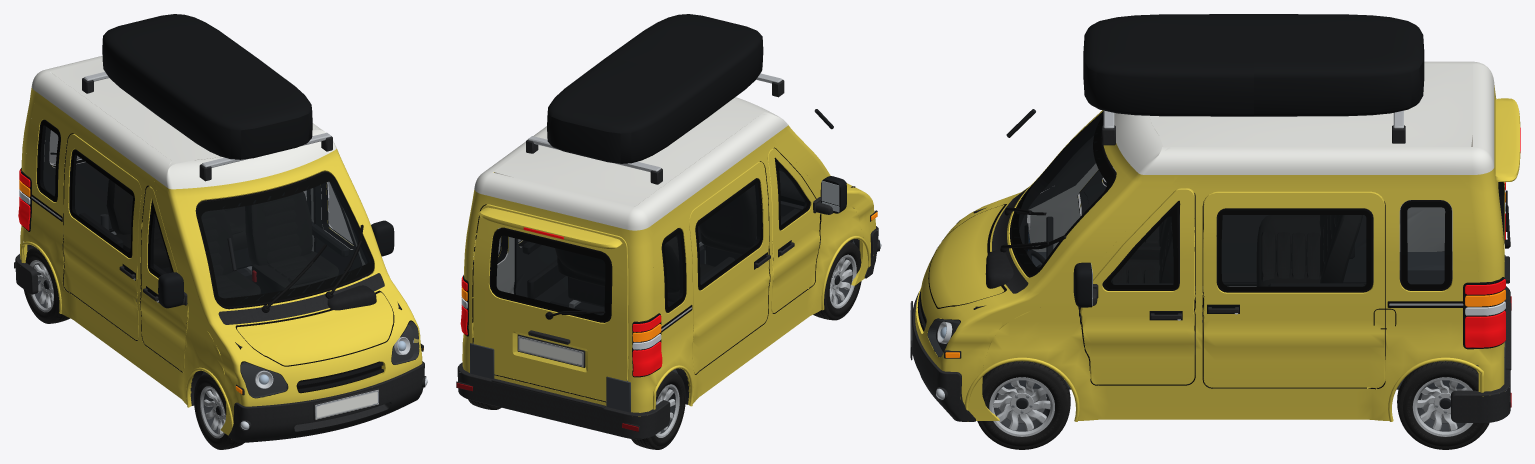
File: kei-wagon-with-roof-box.glb
The picture shows the model from 3 angles, left to right: view 1: azimuth 30°, elevation 25°; view 2: azimuth 150°, elevation 25°; view 3: azimuth 270°, elevation 25°; orthographic projection. The views are drawn at different scales.
Parts seen in each view (by area): view 1: Kei_Wagon_Roof_Box, Sliding_Door_R, Door_R, Door_L, Tailgate, Wheel_Front_R, Wheel_Rear_R; view 2: Kei_Wagon_Roof_Box, Tailgate, Sliding_Door_R, Door_R, Sliding_Door_L, Wheel_Front_R, Wheel_Rear_R; view 3: Kei_Wagon_Roof_Box, Sliding_Door_L, Door_L, Wheel_Front_L, Wheel_Rear_L, Sliding_Door_R, Tailgate, Door_R.
Part boxes in pixels (x1,y1,x2,y2): Kei_Wagon_Roof_Box: [14, 14, 427, 442]; Sliding_Door_R: [63, 134, 141, 339]; Door_R: [140, 186, 188, 371]; Door_L: [312, 174, 394, 286]; Tailgate: [43, 127, 112, 230]; Wheel_Front_R: [194, 373, 243, 449]; Wheel_Rear_R: [23, 247, 69, 323]; Kei_Wagon_Roof_Box: [456, 14, 881, 439]; Tailgate: [473, 204, 628, 401]; Sliding_Door_R: [689, 161, 770, 374]; Door_R: [754, 148, 846, 312]; Sliding_Door_L: [507, 236, 567, 302]; Wheel_Front_R: [813, 241, 861, 320]; Wheel_Rear_R: [631, 371, 685, 449]; Kei_Wagon_Roof_Box: [910, 14, 1511, 422]; Sliding_Door_L: [1203, 191, 1385, 387]; Door_L: [1073, 188, 1204, 384]; Wheel_Front_L: [977, 361, 1070, 449]; Wheel_Rear_L: [1397, 361, 1489, 449]; Sliding_Door_R: [1216, 209, 1373, 284]; Tailgate: [1495, 96, 1520, 283]; Door_R: [1079, 161, 1115, 214].
Bounding box in the file's own units: 1.89 × 2.28 × 3.52.
57 materials, 9 textured.
